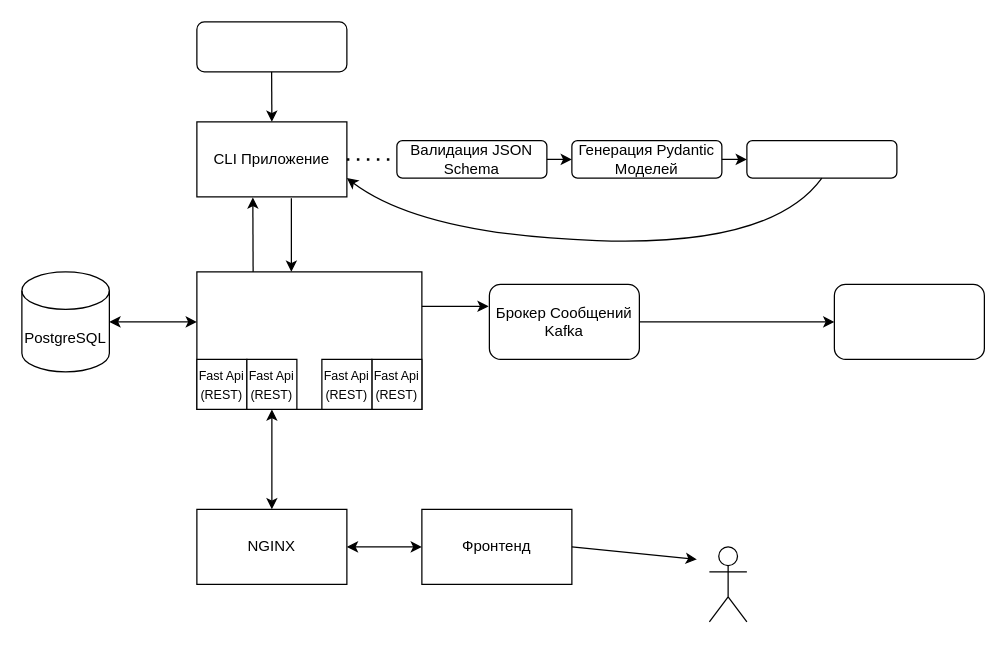
Image size: 1006x670. Some labels were removed from this diagram. Here are the shapes that lost their labels. From the top down, the box of each, then its label:
(196, 21, 347, 72): Создание JSON Schema
(746, 139, 897, 178): Генерация Контроллеров REST
(196, 271, 422, 409): Kubernetes
(833, 283, 984, 359): Другие сервисы (Если необходимо)
(708, 546, 747, 622): Пользователь
